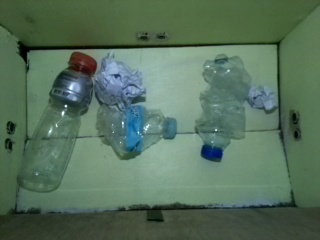bottle: (16, 50, 97, 194)
damaged-bottle: (194, 54, 254, 164), (97, 104, 178, 161)
paper: (94, 51, 148, 104), (248, 84, 278, 114)
